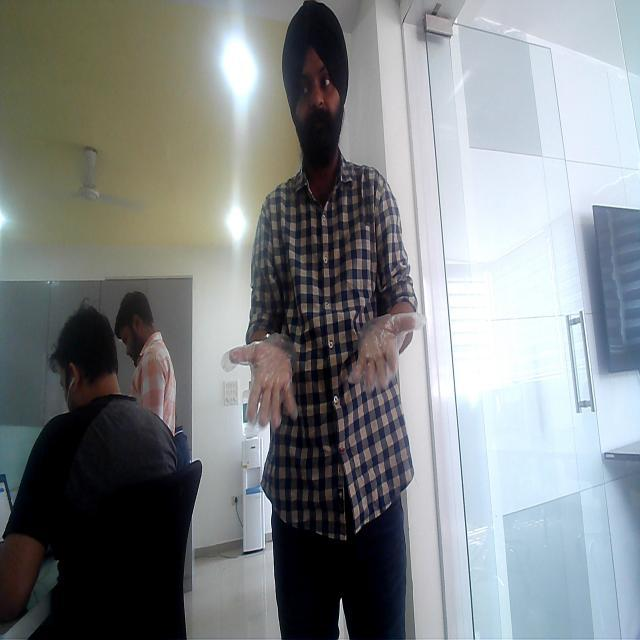with_gloves: (212, 316, 318, 433), (337, 299, 440, 407)
